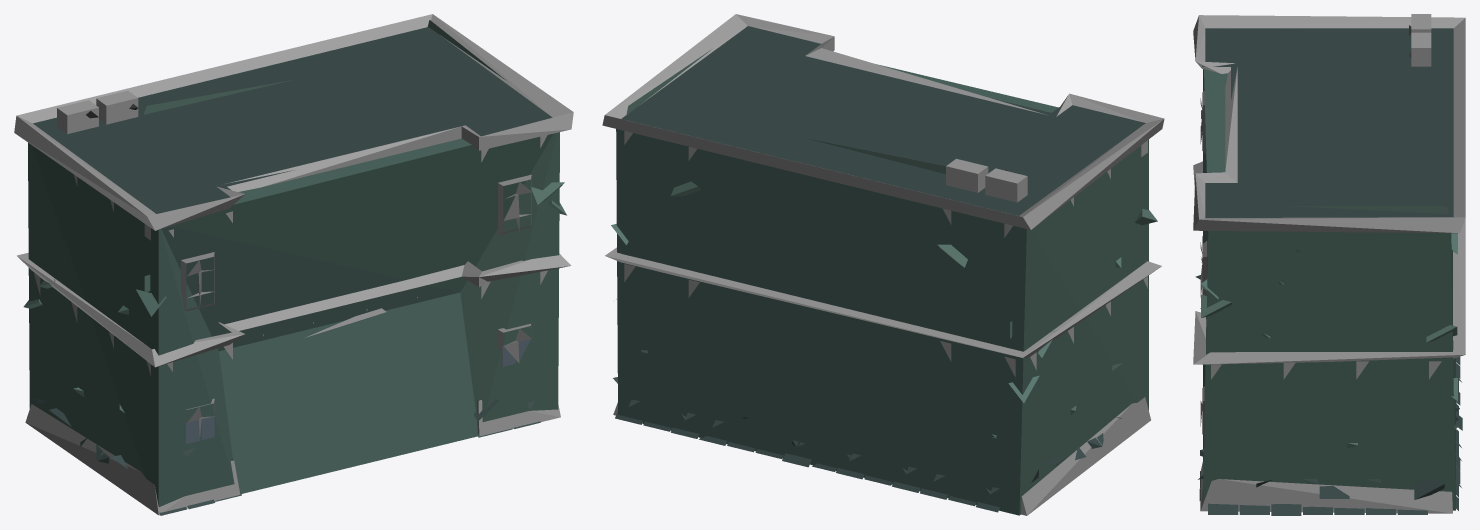
Rendered from 2Story_Wide_lod.glb.
The picture shows the model from 3 angles, left to right: view 1: azimuth 30°, elevation 25°; view 2: azimuth 150°, elevation 25°; view 3: azimuth 270°, elevation 25°; orthographic projection. The views are drawn at different scales.
Visible parts, largest first — view 1: 2Story_Wide_Mat; view 2: 2Story_Wide_Mat; view 3: 2Story_Wide_Mat.
Boxes of the visible parts, x1,y1,x2,y2 form: 2Story_Wide_Mat: [14, 14, 573, 515]; 2Story_Wide_Mat: [602, 14, 1164, 515]; 2Story_Wide_Mat: [1193, 14, 1465, 515].
Bounding box in the file's own units: 3.83 × 2.72 × 2.15.
